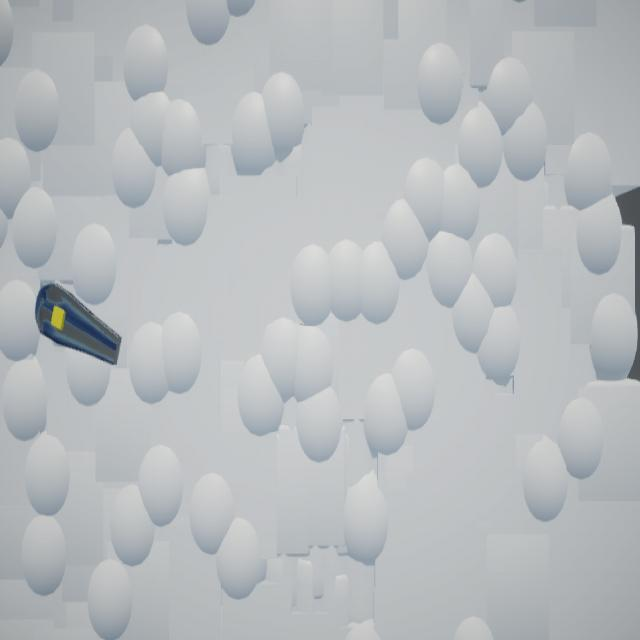handle_knife: (36, 283, 123, 367)
